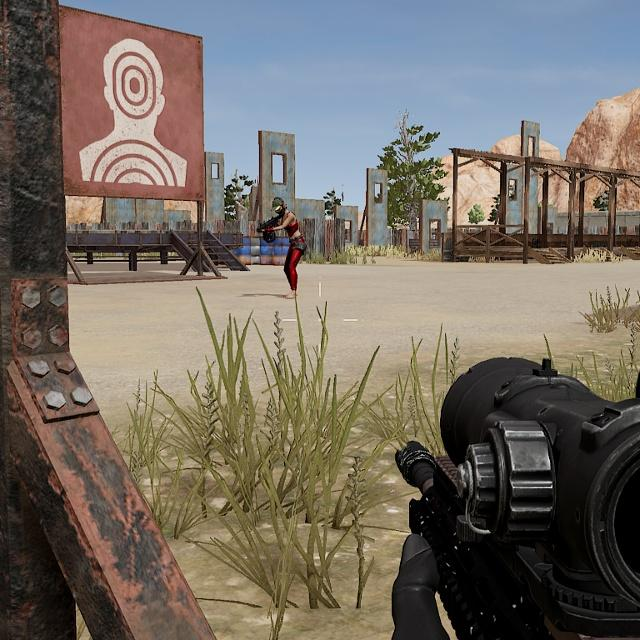head: (269, 195, 307, 300)
people: (270, 196, 289, 218)
